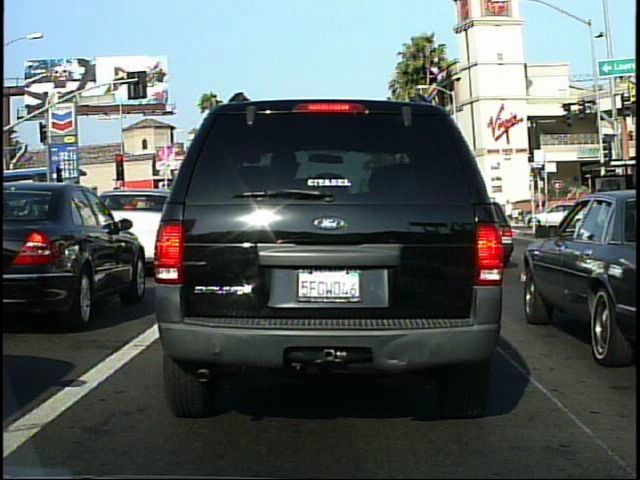person: (591, 184, 613, 242), (503, 198, 517, 227)
